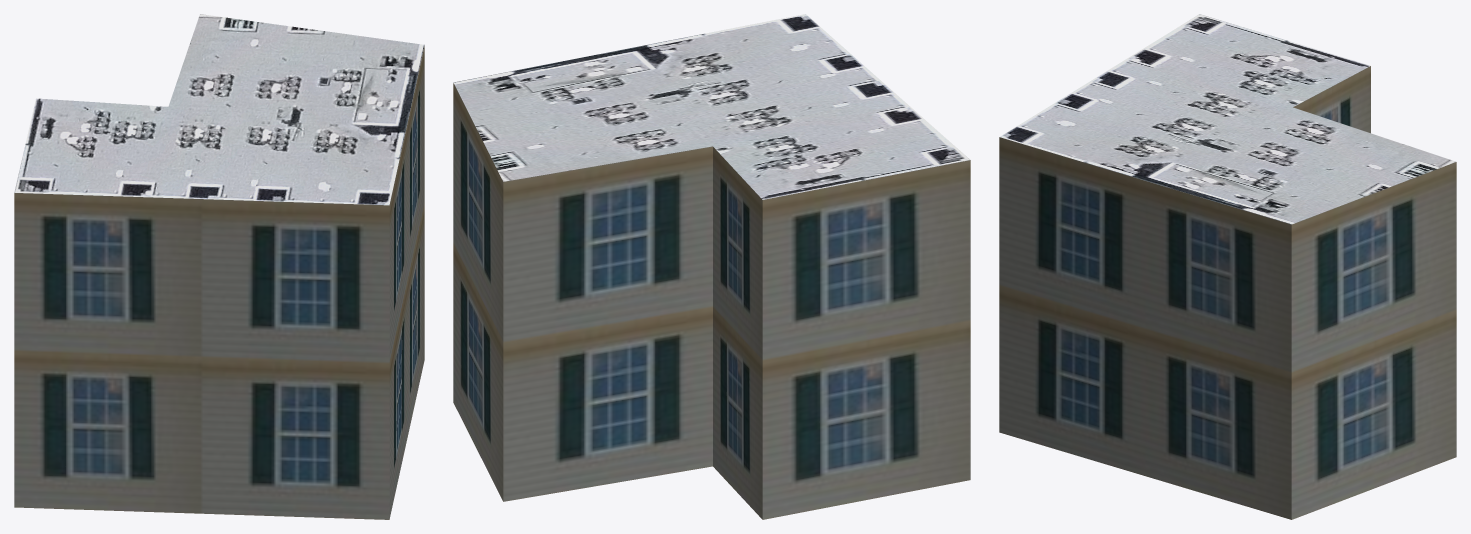
Rendered from ResTex__3547.fbx.
3 views of the same model, side by side, from view 1: azimuth 30°, elevation 25°; view 2: azimuth 150°, elevation 25°; view 3: azimuth 270°, elevation 25° (orthographic). The views are drawn at different scales.
Parts seen in each view (by area): view 1: CityEngineMaterial_7_m, CityEngineMaterial_15_m; view 2: CityEngineMaterial_7_m, CityEngineMaterial_15_m; view 3: CityEngineMaterial_7_m, CityEngineMaterial_15_m.
Boxes of the visible parts, x1,y1,x2,y2 form: CityEngineMaterial_7_m: (14, 46, 424, 519); CityEngineMaterial_15_m: (14, 14, 424, 205); CityEngineMaterial_7_m: (453, 83, 970, 519); CityEngineMaterial_15_m: (453, 14, 969, 199); CityEngineMaterial_7_m: (999, 66, 1456, 519); CityEngineMaterial_15_m: (1000, 14, 1456, 224).
Size of the model in its own units: 9.17 by 6 by 8.41.
2 materials, 2 textured.
